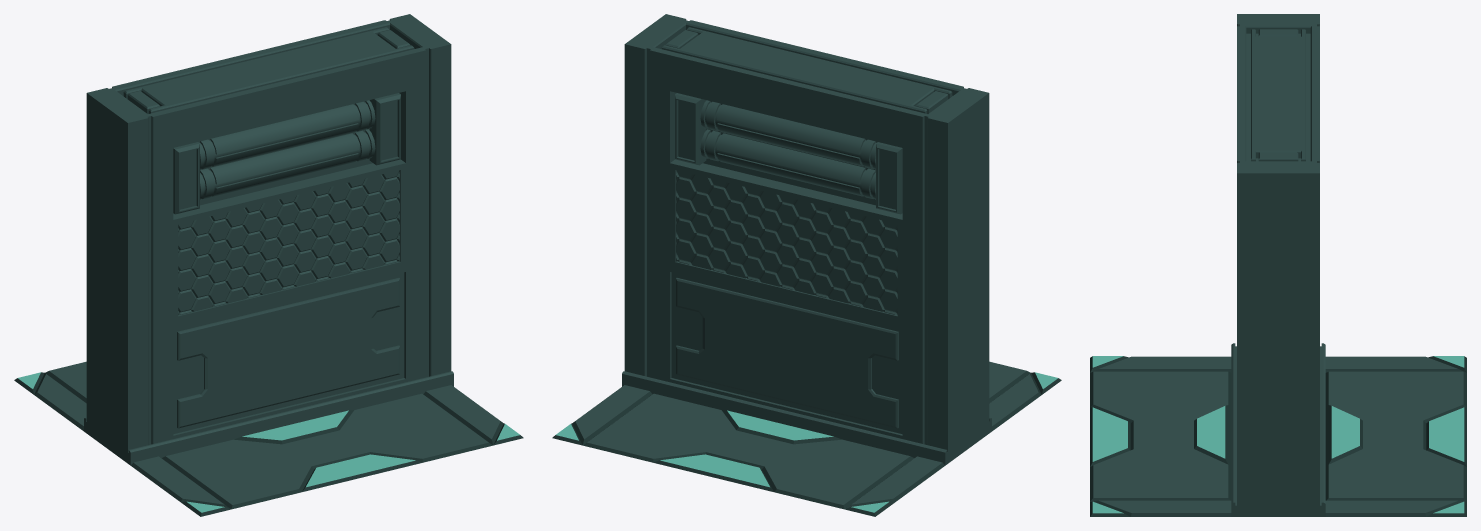
Rendered from Walls_Straight_Var02.fbx.
3 views of the same model, side by side, from view 1: azimuth 30°, elevation 25°; view 2: azimuth 150°, elevation 25°; view 3: azimuth 270°, elevation 25° (orthographic).
Parts seen in each view (by area): view 1: Walls_Straight_Var02; view 2: Walls_Straight_Var02; view 3: Walls_Straight_Var02.
Boxes of the visible parts, bbox=[...] form: Walls_Straight_Var02: bbox=[14, 14, 523, 516]; Walls_Straight_Var02: bbox=[552, 14, 1061, 516]; Walls_Straight_Var02: bbox=[1090, 14, 1466, 516].
Size of the model in its own units: 600 by 604 by 600.
